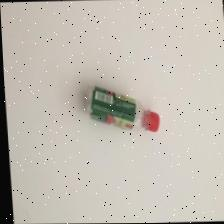plastic: (81, 85, 158, 132)
